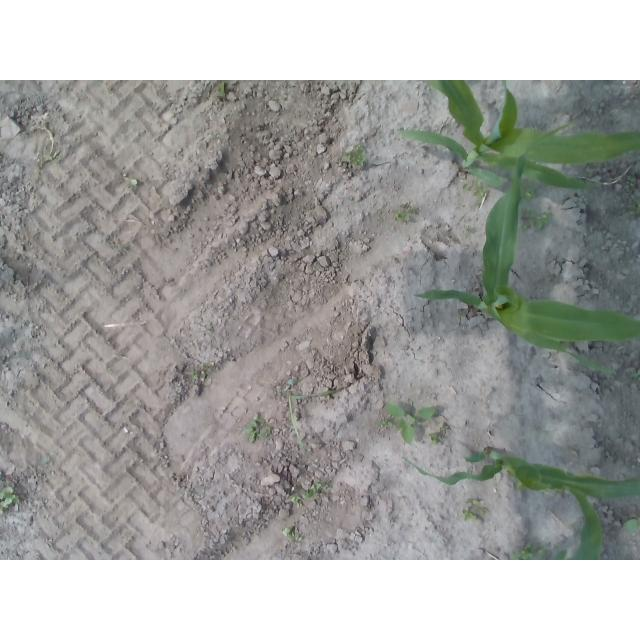Maize: (413, 119, 640, 376), (394, 80, 640, 198), (400, 445, 640, 503), (500, 485, 604, 560)
Weeds: (285, 387, 337, 464), (378, 403, 436, 446), (243, 413, 271, 444), (518, 206, 552, 230), (508, 544, 545, 561), (462, 498, 486, 522), (342, 143, 367, 165), (1, 486, 20, 514), (392, 203, 416, 221), (518, 180, 538, 201), (463, 179, 486, 197), (430, 423, 447, 445), (192, 364, 213, 380), (622, 516, 640, 533), (302, 484, 321, 499), (282, 527, 301, 542), (627, 196, 640, 216), (213, 82, 227, 99), (292, 494, 303, 508), (625, 175, 636, 185), (44, 154, 56, 161), (130, 178, 139, 187), (287, 379, 298, 386)
